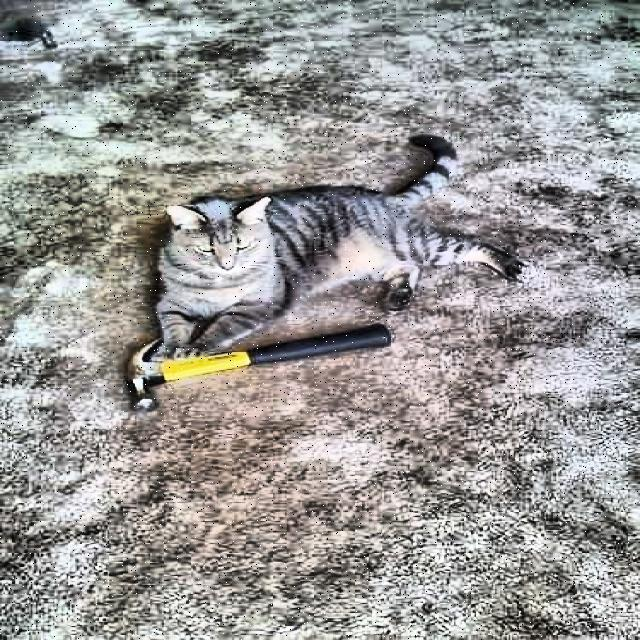hammer: (125, 327, 385, 416)
